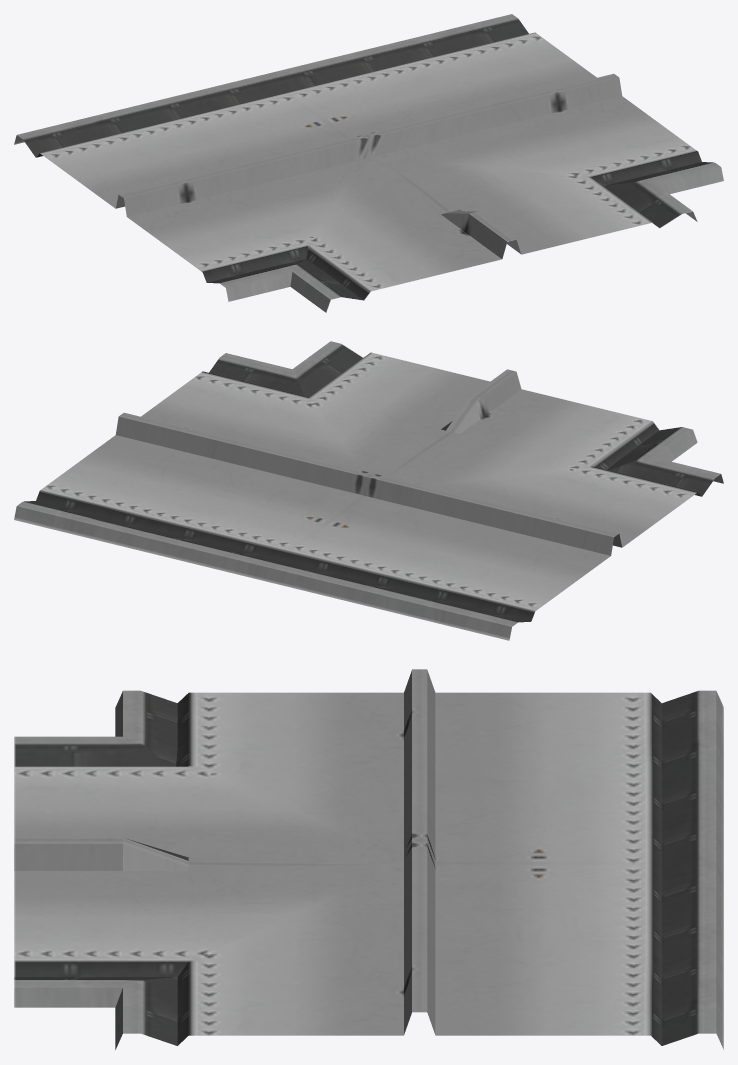
Rendered from road_T.glb.
The picture shows the model from 3 angles, top to bottom: view 1: azimuth 30°, elevation 25°; view 2: azimuth 150°, elevation 25°; view 3: azimuth 270°, elevation 25°; orthographic projection. The views are drawn at different scales.
Parts seen in each view (by area): view 1: Plane.004; view 2: Plane.004; view 3: Plane.004.
Part boxes in pixels (x1,y1,x2,y2): Plane.004: [14, 14, 723, 312]; Plane.004: [14, 341, 723, 640]; Plane.004: [14, 669, 723, 1049].
Bounding box in the file's own units: 20 × 1.04 × 17.5.
1 material, 1 textured.
